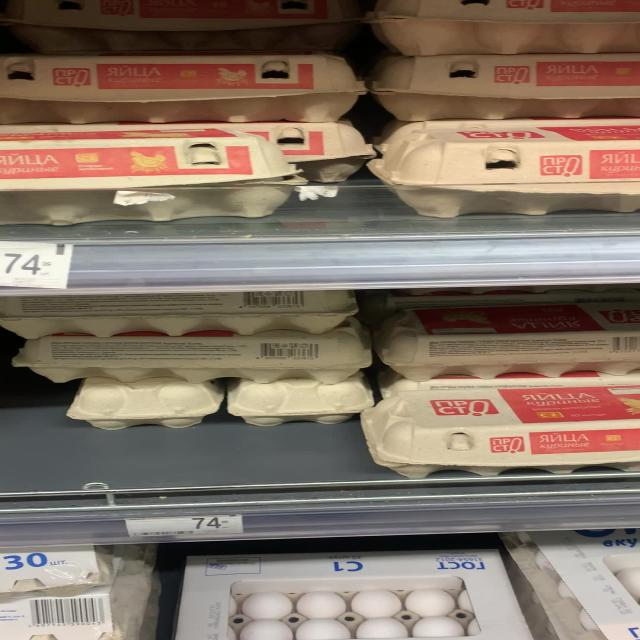egg box: (370, 113, 638, 220), (0, 128, 296, 224), (346, 377, 634, 473), (2, 42, 355, 120), (372, 40, 637, 116), (377, 304, 638, 373)
